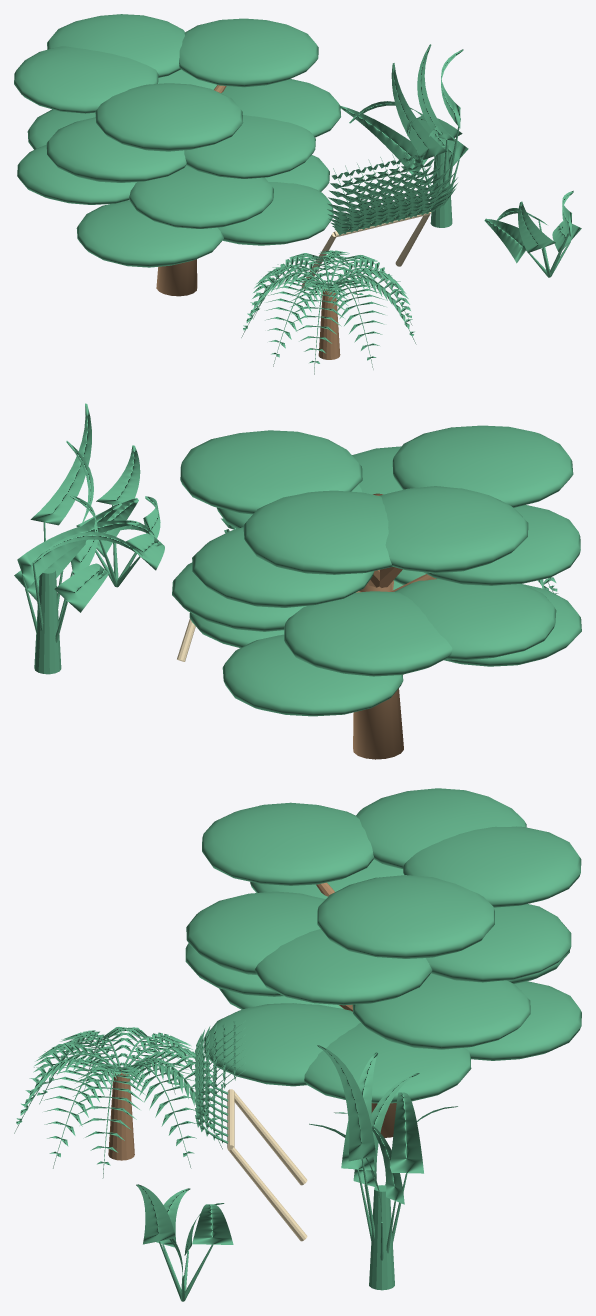
The model's file is island_interior_clearing_tropical_island_and_palm_trees_6866.glb.
3 renders of one model, top to bottom at view 1: azimuth 30°, elevation 25°; view 2: azimuth 150°, elevation 25°; view 3: azimuth 270°, elevation 25°, orthographic. The views are drawn at different scales.
Parts seen in each view (by area): view 1: 000-sea-almond/30, 000-sea-almond/28, 003-tree-fern/1, 000-sea-almond/26, 000-sea-almond/14, 000-sea-almond/4, 000-sea-almond/24, 000-sea-almond/20, 000-sea-almond/32, 000-sea-almond/8, 000-sea-almond/18, 000-sea-almond/10 (+21 smaller); view 2: 000-sea-almond/28, 000-sea-almond/30, 000-sea-almond/16, 000-sea-almond/32, 000-sea-almond/26, 000-sea-almond/10, 000-sea-almond/6, 000-sea-almond/22, 000-sea-almond/20, 000-sea-almond/12, 000-sea-almond/0, 000-sea-almond/4 (+13 smaller); view 3: 000-sea-almond/28, 000-sea-almond/30, 000-sea-almond/32, 003-tree-fern/1, 000-sea-almond/12, 000-sea-almond/8, 000-sea-almond/18, 000-sea-almond/26, 000-sea-almond/24, 000-sea-almond/2, 000-sea-almond/22, 000-sea-almond/6 (+14 smaller).
Part boxes in pixels (x1,y1,x2,y2): 000-sea-almond/30: [95, 83, 243, 151]; 000-sea-almond/28: [179, 18, 318, 87]; 003-tree-fern/1: [241, 250, 416, 374]; 000-sea-almond/26: [14, 46, 158, 113]; 000-sea-almond/14: [129, 165, 273, 228]; 000-sea-almond/4: [76, 200, 223, 267]; 000-sea-almond/24: [184, 115, 315, 178]; 000-sea-almond/20: [46, 117, 186, 182]; 000-sea-almond/32: [47, 14, 185, 77]; 000-sea-almond/8: [218, 182, 333, 245]; 000-sea-almond/18: [221, 79, 340, 137]; 000-sea-almond/10: [17, 144, 136, 204]; 000-sea-almond/28: [180, 430, 362, 514]; 000-sea-almond/30: [392, 425, 573, 507]; 000-sea-almond/16: [284, 591, 452, 676]; 000-sea-almond/32: [243, 490, 392, 574]; 000-sea-almond/26: [379, 486, 528, 573]; 000-sea-almond/10: [394, 579, 556, 660]; 000-sea-almond/6: [222, 634, 403, 716]; 000-sea-almond/22: [192, 527, 374, 607]; 000-sea-almond/20: [424, 505, 580, 585]; 000-sea-almond/12: [172, 562, 306, 631]; 000-sea-almond/0: [353, 493, 403, 759]; 000-sea-almond/4: [444, 584, 581, 666]; 000-sea-almond/28: [317, 875, 494, 958]; 000-sea-almond/30: [202, 802, 373, 885]; 000-sea-almond/32: [403, 826, 581, 907]; 003-tree-fern/1: [14, 1027, 222, 1178]; 000-sea-almond/12: [352, 973, 530, 1049]; 000-sea-almond/8: [204, 1003, 360, 1086]; 000-sea-almond/18: [254, 929, 432, 1005]; 000-sea-almond/26: [356, 788, 526, 868]; 000-sea-almond/24: [186, 891, 325, 974]; 000-sea-almond/2: [304, 1022, 471, 1103]; 000-sea-almond/22: [426, 904, 571, 982]; 000-sea-almond/6: [464, 981, 581, 1060].
Size of the model in its own units: 9.89 by 4.56 by 8.56.
